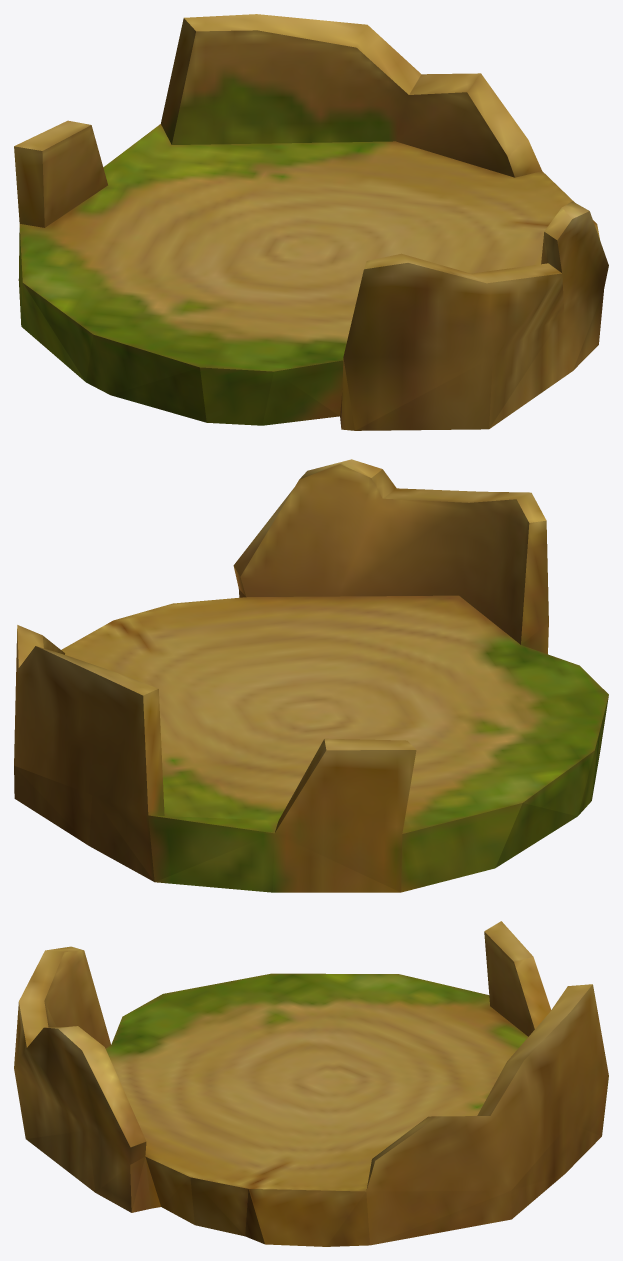
Rendered from Stage_ZhuCheng_ShuZhuan01.FBX.
The picture shows the model from 3 angles, top to bottom: view 1: azimuth 30°, elevation 25°; view 2: azimuth 150°, elevation 25°; view 3: azimuth 270°, elevation 25°; orthographic projection. The views are drawn at different scales.
Visible parts, largest first — view 1: Stage_ZhuCheng_ShuZhuan01; view 2: Stage_ZhuCheng_ShuZhuan01; view 3: Stage_ZhuCheng_ShuZhuan01.
Part boxes in pixels (bbox=[...]): Stage_ZhuCheng_ShuZhuan01: bbox=[14, 14, 608, 430]; Stage_ZhuCheng_ShuZhuan01: bbox=[14, 459, 608, 892]; Stage_ZhuCheng_ShuZhuan01: bbox=[14, 921, 608, 1246].
Bounding box in the file's own units: 150 × 50.56 × 171.
